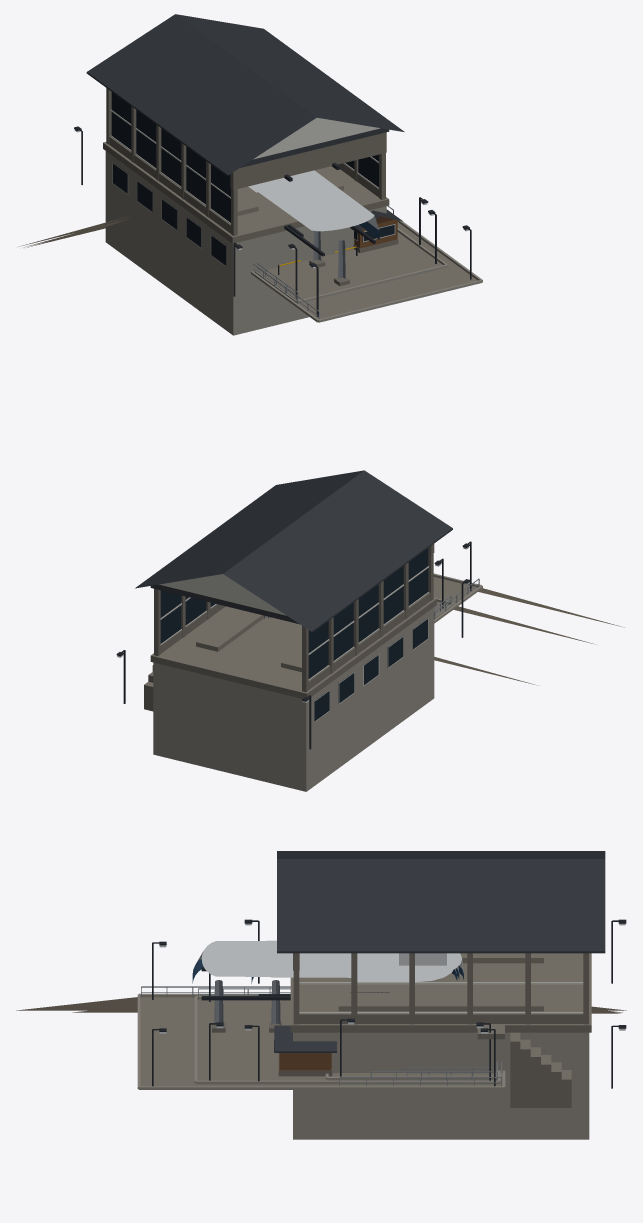
The model's file is lifts.glb.
3 views of the same model, one above another, from view 1: azimuth 30°, elevation 25°; view 2: azimuth 150°, elevation 25°; view 3: azimuth 270°, elevation 25° (orthographic). The views are drawn at different scales.
Visible parts, largest first — view 1: st_gond, st_chair_d6, st_chair_d4; view 2: st_gond, st_chair_d6, st_chair_d4; view 3: st_gond, st_chair_d6, st_chair_d4, st_chair_f.
Part boxes in pixels (left/top/right/bottom): st_gond: left=74, top=14, right=428, bottom=335; st_chair_d6: left=18, top=170, right=482, bottom=322; st_chair_d4: left=24, top=210, right=447, bottom=303; st_gond: left=116, top=470, right=470, bottom=791; st_chair_d6: left=264, top=541, right=624, bottom=627; st_chair_d4: left=268, top=558, right=594, bottom=644; st_gond: left=244, top=851, right=626, bottom=1139; st_chair_d6: left=16, top=940, right=626, bottom=1089; st_chair_d4: left=72, top=953, right=622, bottom=1084; st_chair_f: left=325, top=968, right=620, bottom=1080.
Size of the model in its own units: 41.13 by 22.95 by 53.93.
